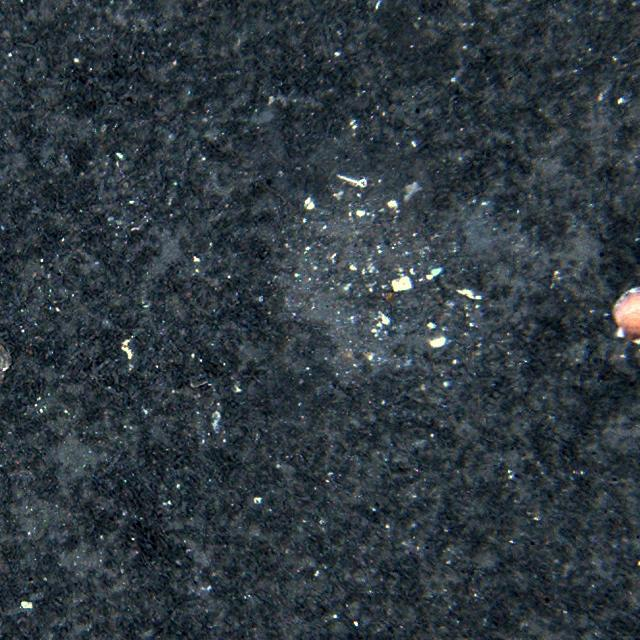scallop: (608, 283, 640, 343)
